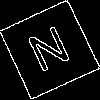N: (24, 25, 77, 83)
